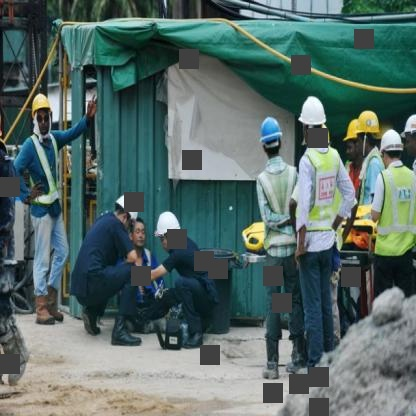blue: (258, 112, 288, 146)
vest: (302, 138, 352, 238), (256, 155, 302, 258), (373, 158, 415, 262), (27, 128, 64, 210)
white: (297, 90, 331, 130), (152, 205, 184, 240), (378, 124, 409, 154), (112, 192, 143, 222)
yellow: (354, 107, 386, 136), (343, 113, 363, 145)
